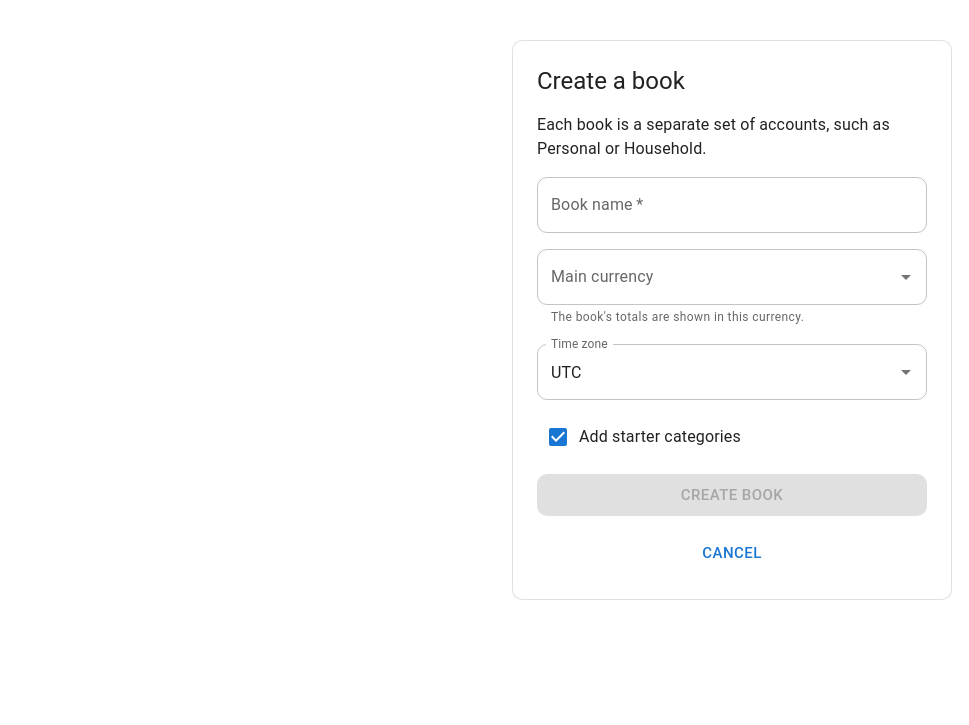
Create a book (waterflow#21) › has Cancel, back to the page before, when the user already has a book
The width and height of the screenshot is (969, 725).
What coordinates should you click on to do the following:
click the button "Cancel"
I would click on:
 (732, 554)
Its box is [537,532,927,575].
(page scrolled)
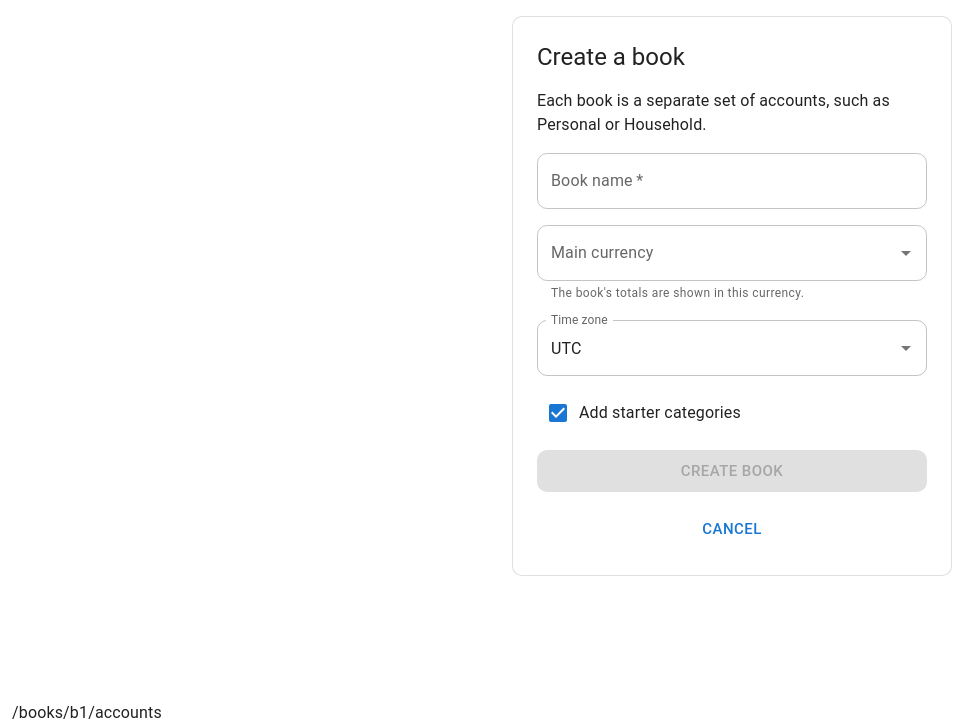
expect the text with test id "where" reads "/books/b1/accounts": met, box [12,703,162,722]
